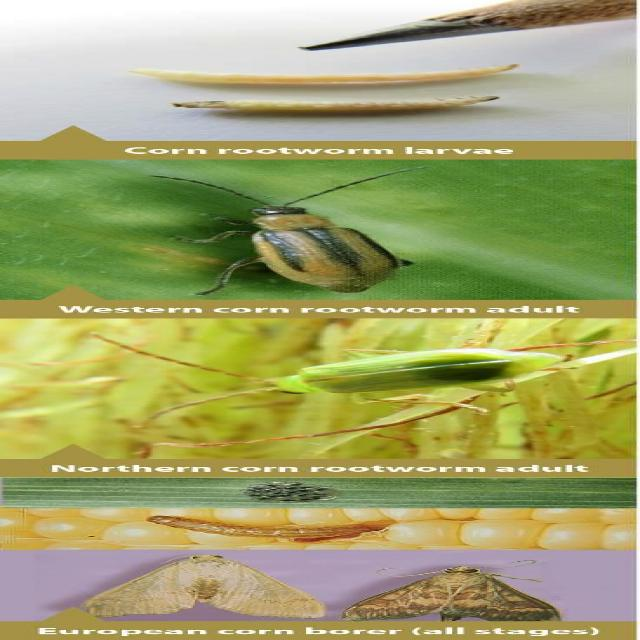cornborer-Larva-: (144, 509, 463, 546)
